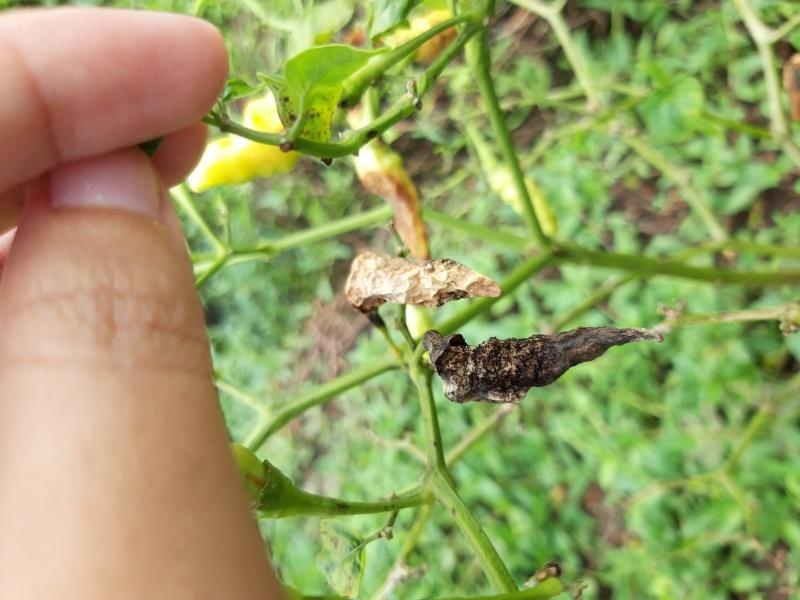antraknosa: (445, 328, 663, 405), (346, 135, 430, 258), (344, 253, 501, 307)
